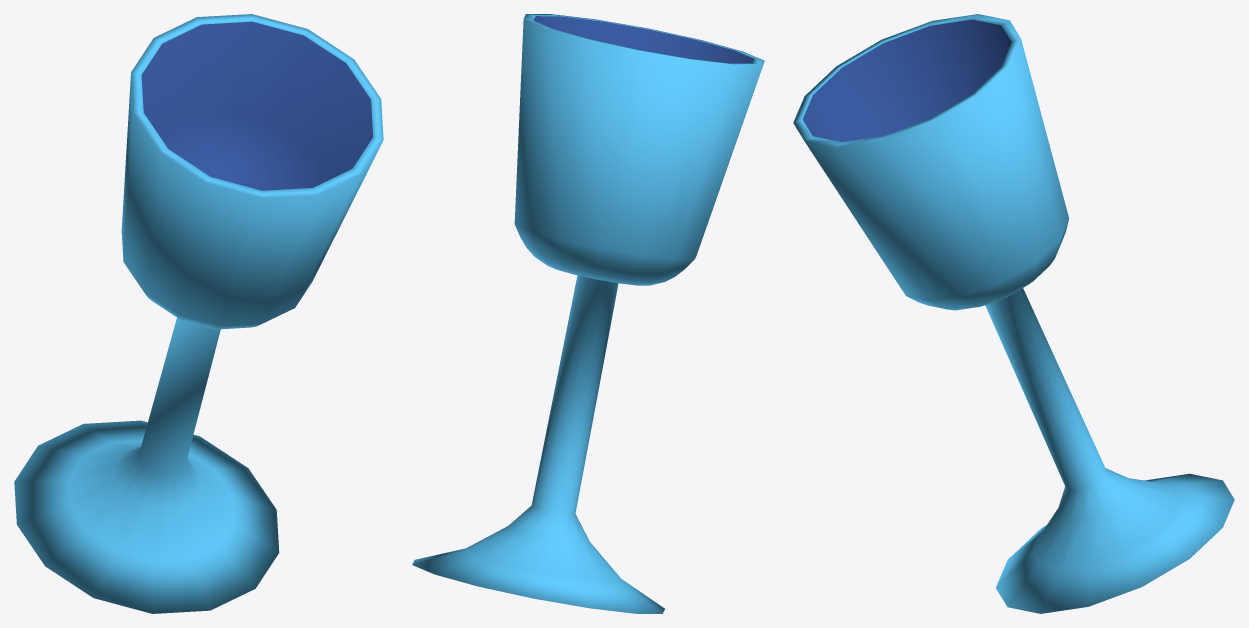
File: GobletModel.glb
3 views of the same model, side by side, from view 1: azimuth 30°, elevation 25°; view 2: azimuth 150°, elevation 25°; view 3: azimuth 270°, elevation 25° (orthographic). The views are drawn at different scales.
Visible parts, largest first — view 1: Taça; view 2: Taça; view 3: Taça.
Part boxes in pixels (box(x1,y1,x2,y2)): Taça: box(14, 14, 383, 613); Taça: box(412, 14, 764, 613); Taça: box(793, 14, 1234, 613).
Bounding box in the file's own units: 0.4255 × 1.02 × 0.7466.
